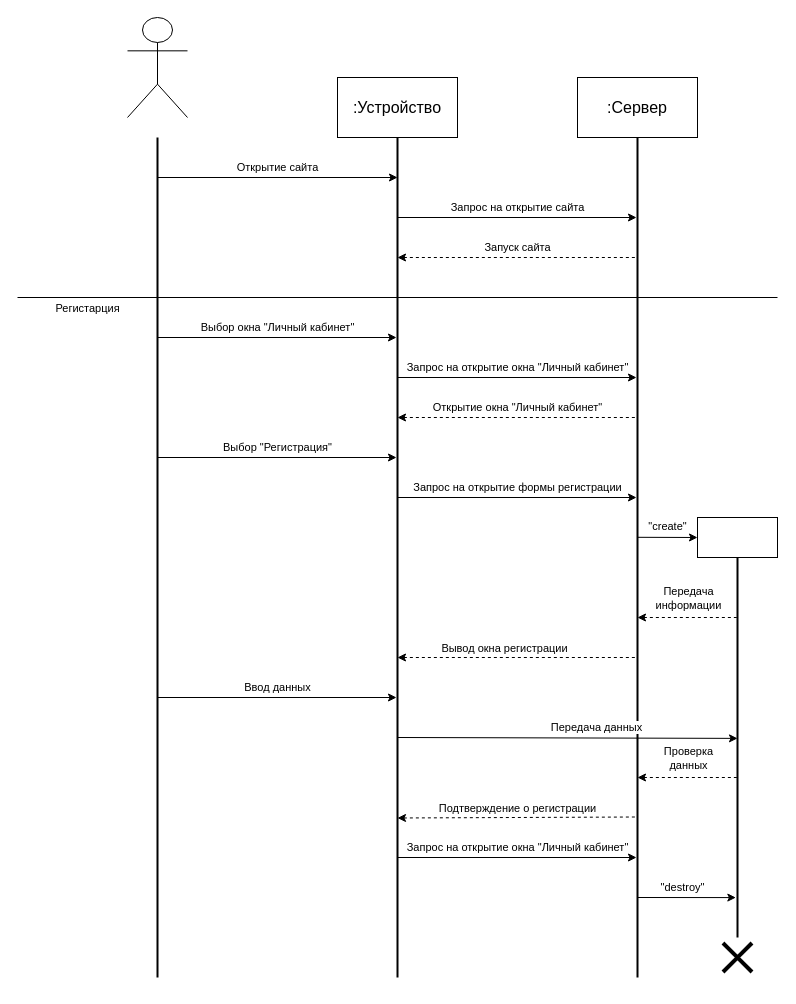
This 796x1004 diagram has some shape labels left out. Each missing label, with the centre of its shape:
":Окно регистрации" belongs at pixel 737 537.
"Клиент" belongs at pixel 157 67.
